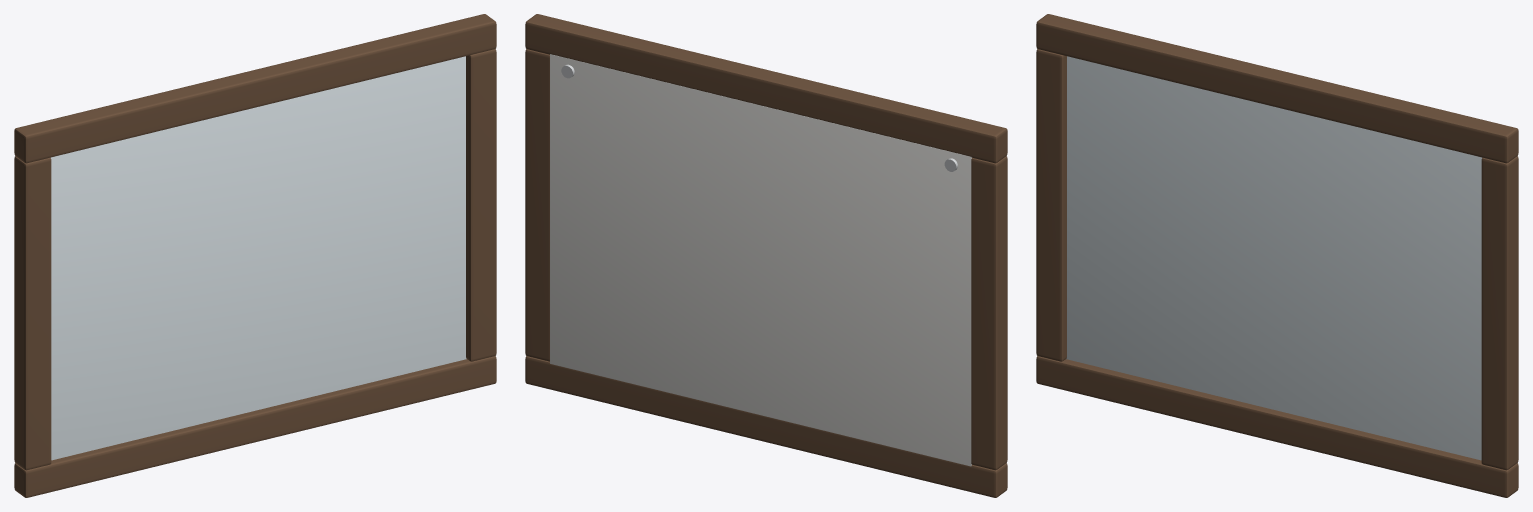
Rendered from frame_landscape.fbx.
3 renders of one model, left to right at view 1: azimuth 30°, elevation 25°; view 2: azimuth 150°, elevation 25°; view 3: azimuth 330°, elevation 25°, orthographic.
Visible parts, largest first — view 1: EQ_frame_landscape_M_Glass, EQ_frame_landscape_M_FrameWalnut; view 2: EQ_frame_landscape_M_MatWhite, EQ_frame_landscape_M_FrameWalnut; view 3: EQ_frame_landscape_M_Glass, EQ_frame_landscape_M_FrameWalnut.
Boxes of the visible parts, left/top/right/bottom form: EQ_frame_landscape_M_Glass: left=51, top=56, right=466, bottom=460; EQ_frame_landscape_M_FrameWalnut: left=14, top=14, right=496, bottom=497; EQ_frame_landscape_M_MatWhite: left=550, top=54, right=971, bottom=466; EQ_frame_landscape_M_FrameWalnut: left=525, top=14, right=1007, bottom=497; EQ_frame_landscape_M_Glass: left=1066, top=56, right=1481, bottom=460; EQ_frame_landscape_M_FrameWalnut: left=1036, top=14, right=1518, bottom=497.
Size of the model in its own units: 0.64 by 0.47 by 0.032.
